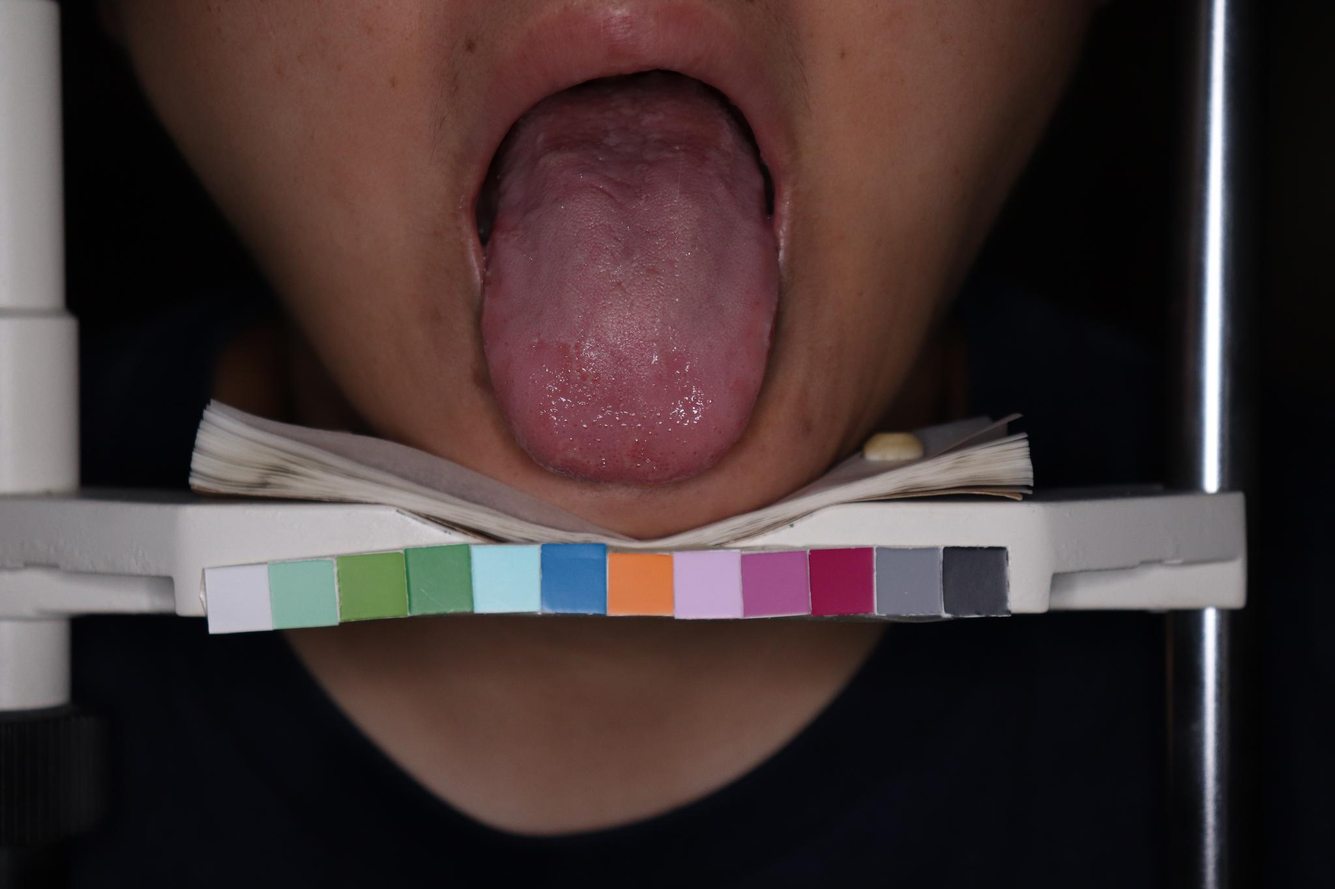baitaishe: (471, 86, 782, 490)
